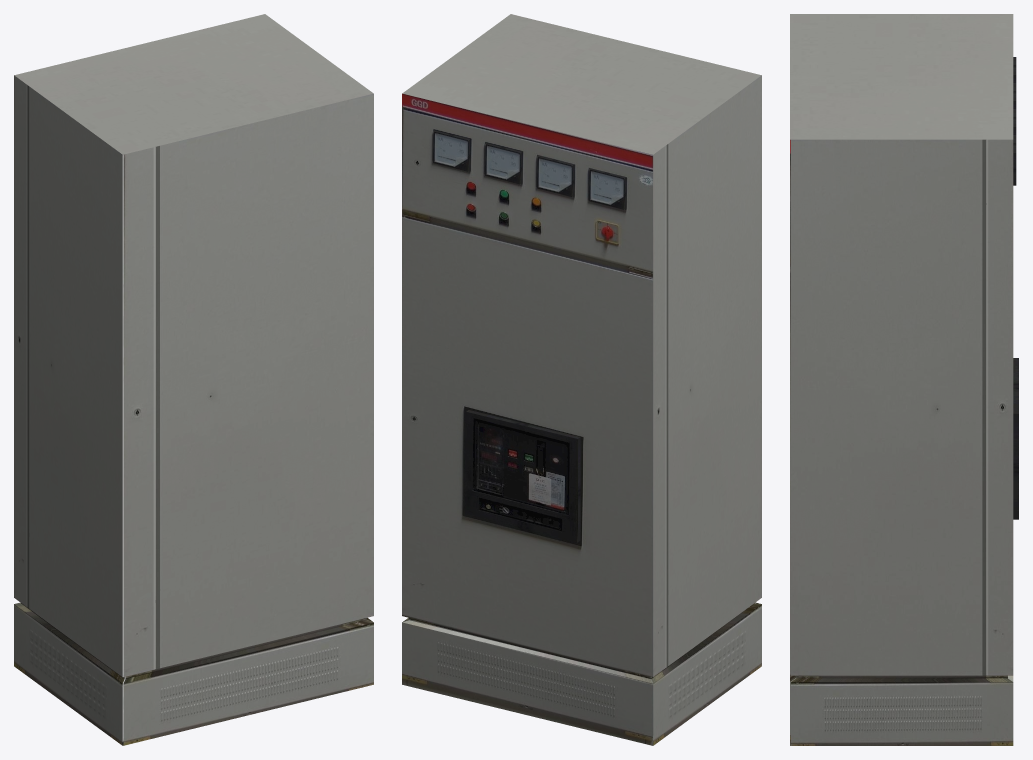
The model's file is 开关柜.obj.
3 renders of one model, left to right at view 1: azimuth 30°, elevation 25°; view 2: azimuth 150°, elevation 25°; view 3: azimuth 270°, elevation 25°, orthographic. The views are drawn at different scales.
Visible parts, largest first — view 1: Box001; view 2: Box001, Box002, Box003, Box004, Box006, Box005; view 3: Box001, Box002.
Boxes of the visible parts, left/top/right/bottom form: Box001: left=14, top=14, right=373, bottom=745; Box001: left=402, top=14, right=761, bottom=745; Box002: left=466, top=410, right=580, bottom=542; Box003: left=433, top=130, right=470, bottom=171; Box004: left=485, top=143, right=522, bottom=184; Box006: left=589, top=168, right=626, bottom=209; Box005: left=537, top=155, right=574, bottom=197; Box001: left=790, top=14, right=1013, bottom=745; Box002: left=1013, top=358, right=1018, bottom=519.
Bounding box in the file's own units: 80 × 180 × 61.53.
